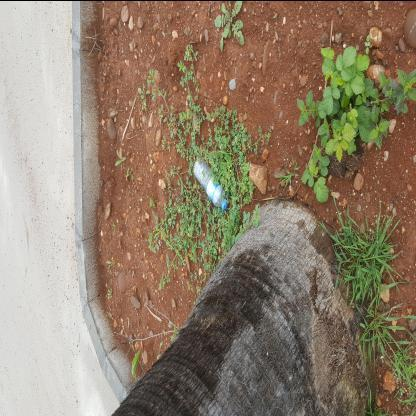plastik: (157, 190, 210, 224)
